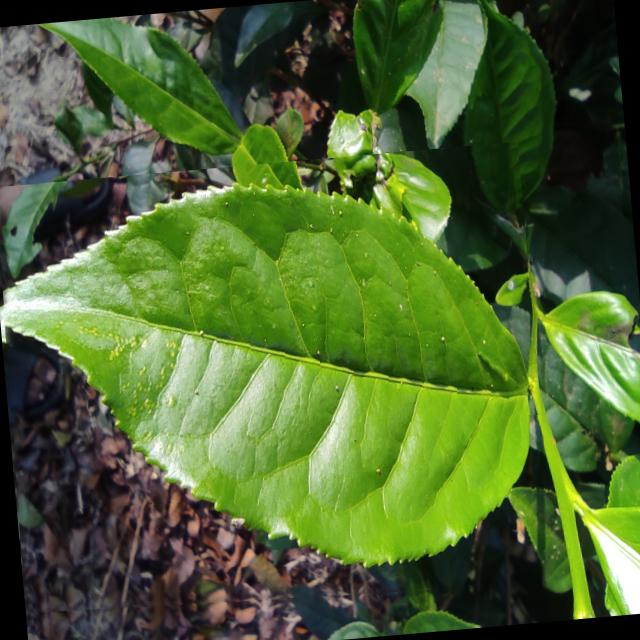Category D(7+ days, Not for Tea): (0, 141, 555, 629)
